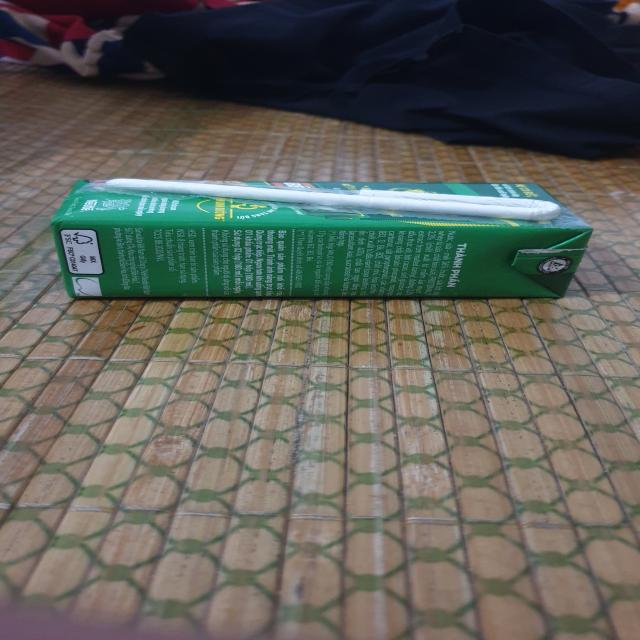Milo: (52, 182, 594, 303)
